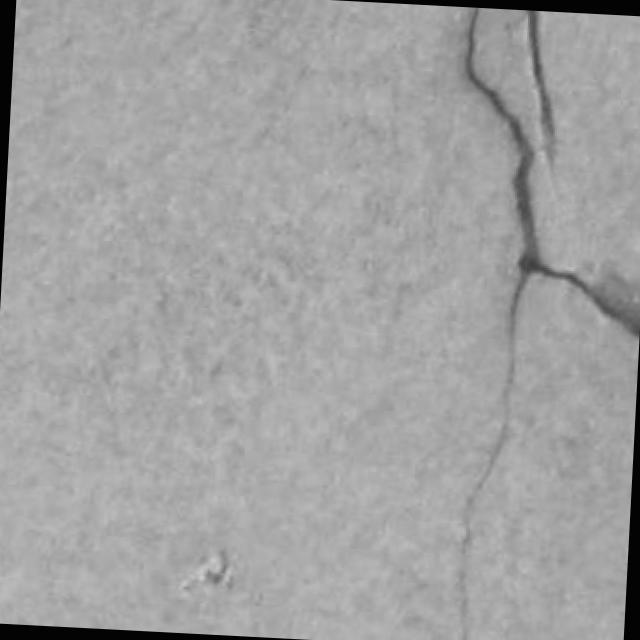crack: (457, 8, 639, 639), (457, 271, 527, 639), (463, 8, 540, 262), (518, 255, 639, 336), (526, 10, 555, 164)
